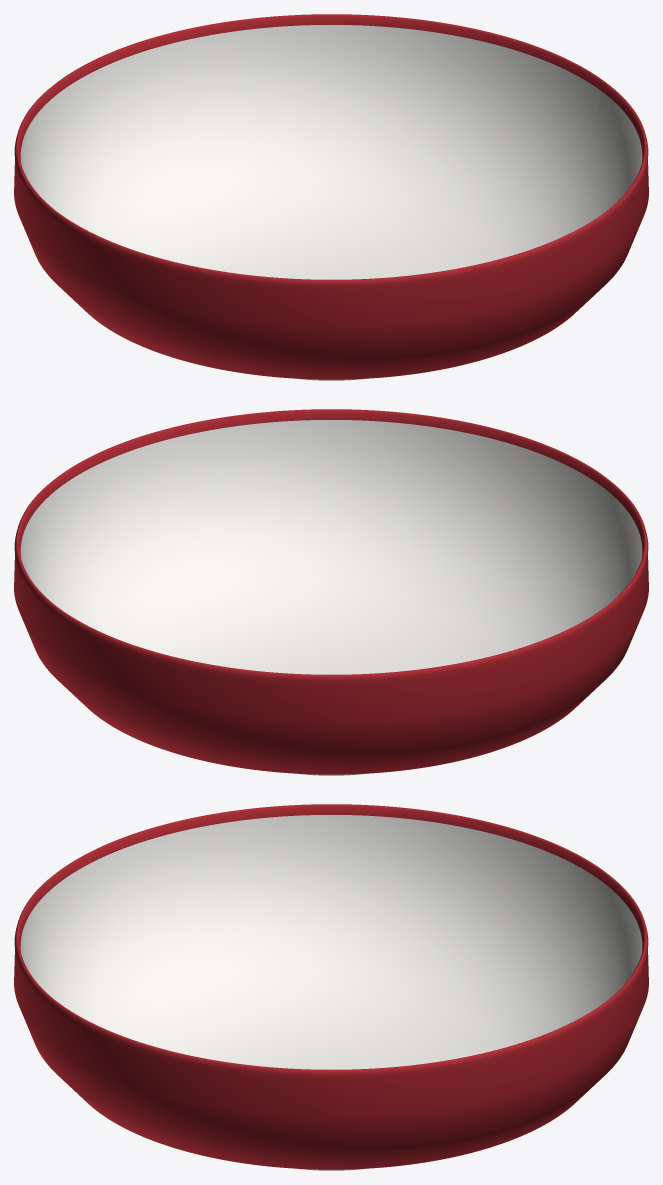
File: bowl.glb
The picture shows the model from 3 angles, top to bottom: view 1: azimuth 30°, elevation 25°; view 2: azimuth 150°, elevation 25°; view 3: azimuth 270°, elevation 25°; orthographic projection.
Visible parts, largest first — view 1: BowlInner, BowlOuter; view 2: BowlInner, BowlOuter; view 3: BowlInner, BowlOuter.
Part boxes in pixels (left/top/right/bottom): BowlInner: left=20, top=25, right=642, bottom=279; BowlOuter: left=14, top=14, right=648, bottom=379; BowlInner: left=20, top=420, right=642, bottom=674; BowlOuter: left=14, top=409, right=648, bottom=774; BowlInner: left=20, top=815, right=642, bottom=1069; BowlOuter: left=14, top=804, right=648, bottom=1169.
Size of what is drawn, in the model's own units: 0.287 by 0.0886 by 0.287.
